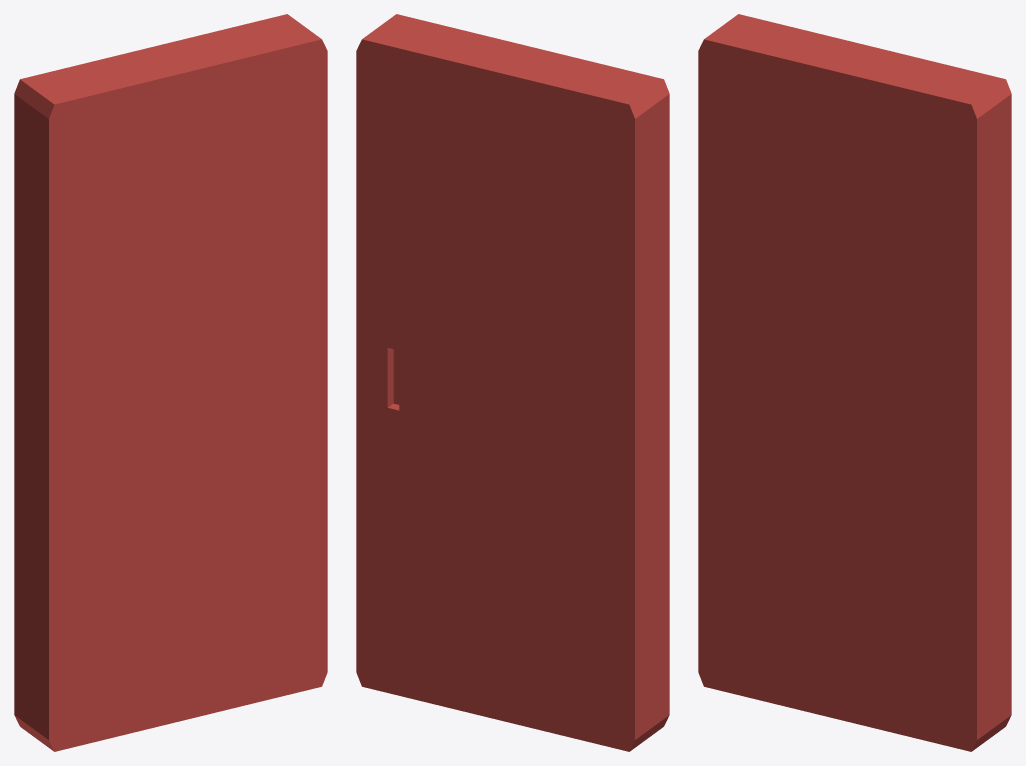
File: door.fbx
3 views of the same model, side by side, from view 1: azimuth 30°, elevation 25°; view 2: azimuth 150°, elevation 25°; view 3: azimuth 330°, elevation 25° (orthographic).
Visible parts, largest first — view 1: Plane.035; view 2: Plane.035; view 3: Plane.035.
Boxes of the visible parts, bbox=[...] form: Plane.035: bbox=[14, 14, 327, 751]; Plane.035: bbox=[356, 14, 669, 751]; Plane.035: bbox=[698, 14, 1011, 751].
Size of the model in its own units: 19.08 by 88.72 by 197.
